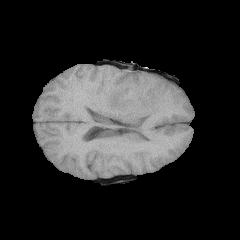glioma: (99, 69, 164, 136)
